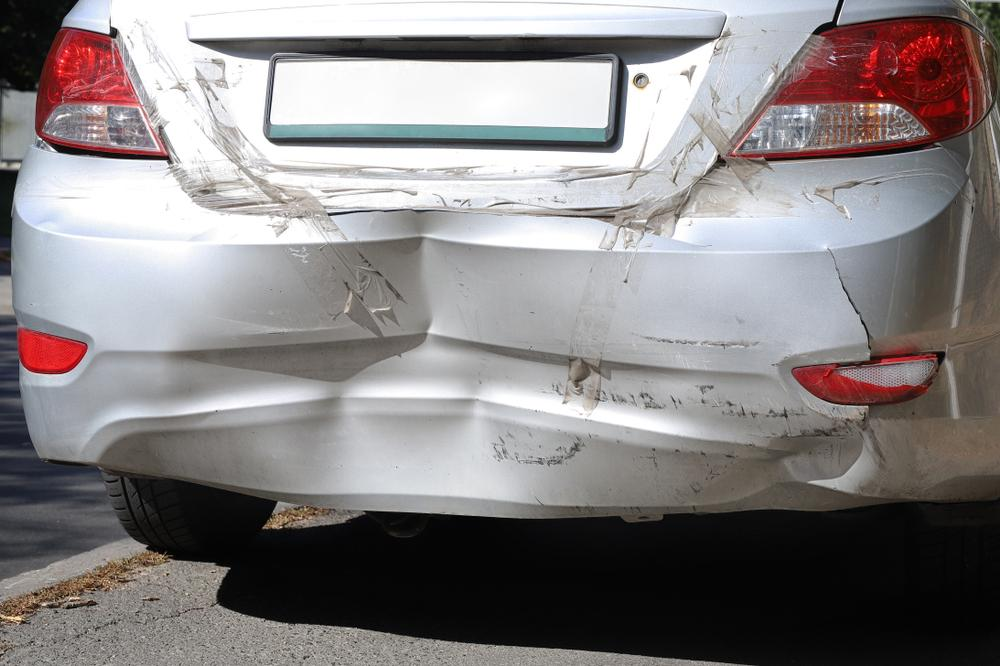crack: (823, 244, 873, 360)
dent: (165, 214, 534, 503), (699, 430, 882, 513)
scratch: (527, 331, 807, 467)
